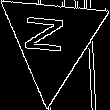N_E: (28, 18, 77, 62)
